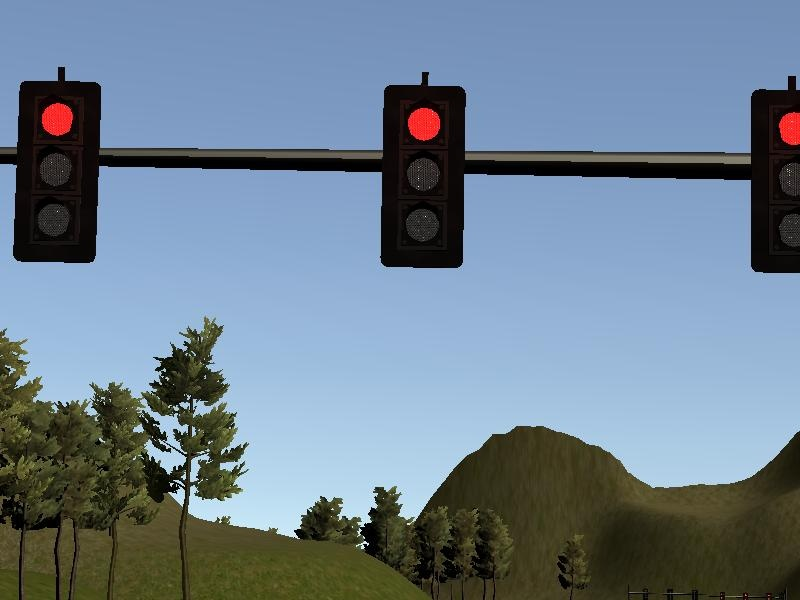traffic_light_red: (6, 65, 800, 279)
